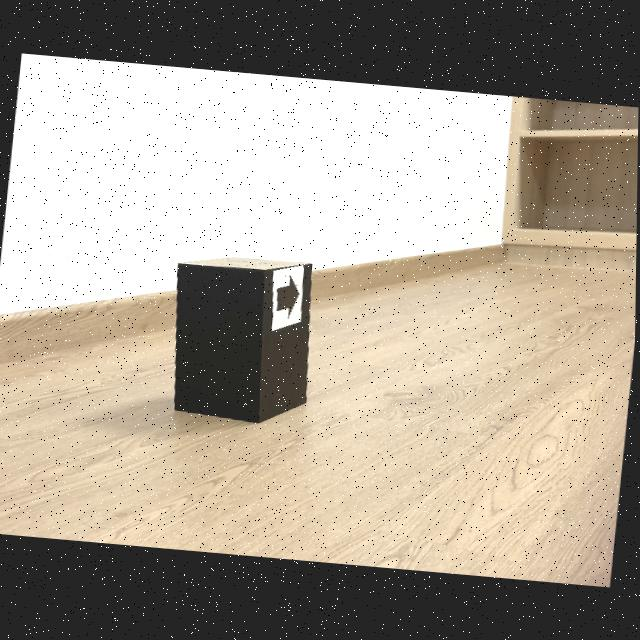RIGHT: (277, 276, 300, 317)
